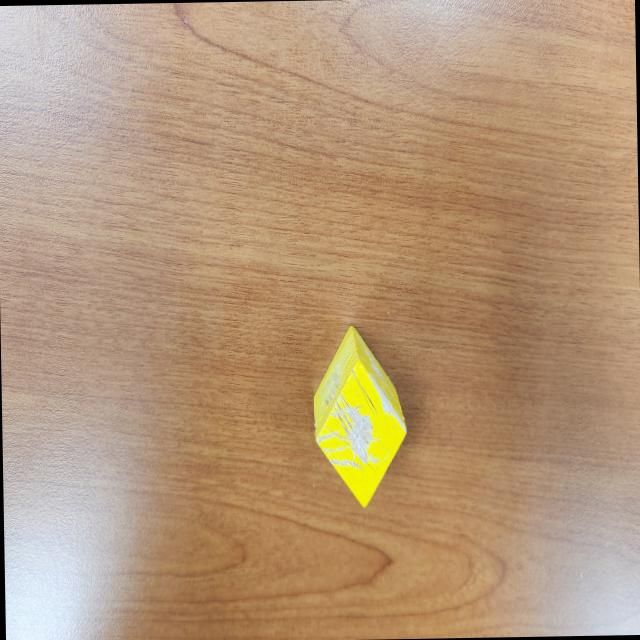broken: (312, 323, 408, 510)
